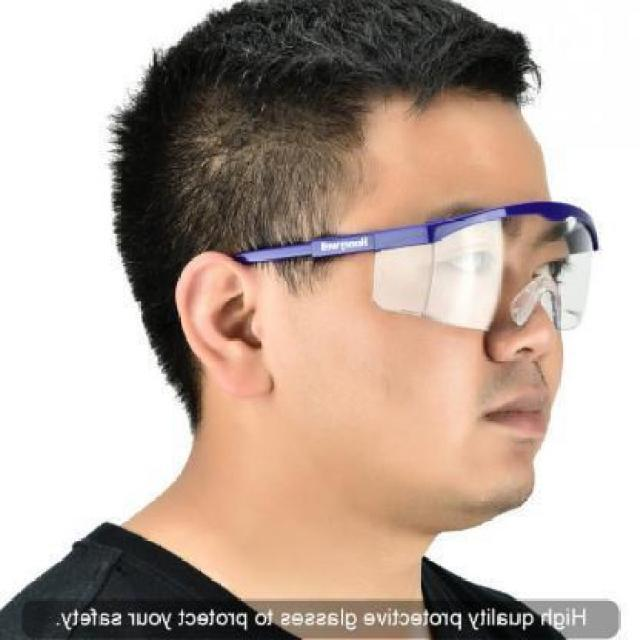Goggles: (206, 196, 640, 339)
